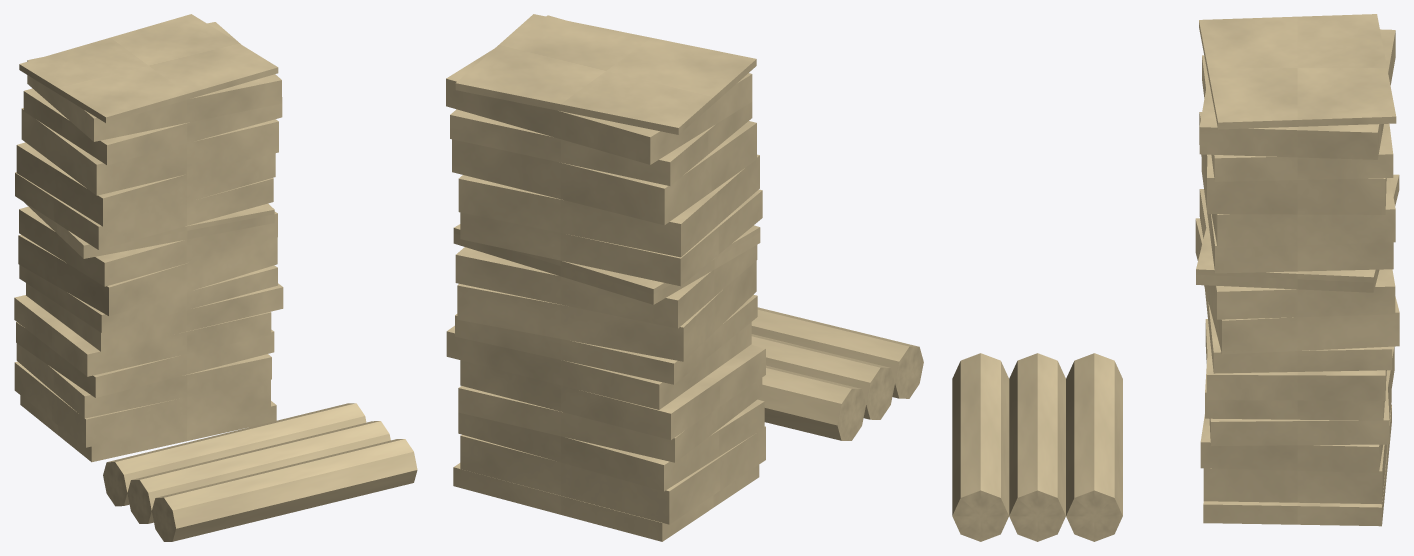
The model's file is Paper_Stack_2.gltf.
The picture shows the model from 3 angles, left to right: view 1: azimuth 30°, elevation 25°; view 2: azimuth 150°, elevation 25°; view 3: azimuth 270°, elevation 25°; orthographic projection. The views are drawn at different scales.
Parts seen in each view (by area): view 1: Paper_Stack_2; view 2: Paper_Stack_2; view 3: Paper_Stack_2.
Part boxes in pixels (box(x1,y1,x2,y2)): Paper_Stack_2: box(14, 14, 417, 541); Paper_Stack_2: box(446, 14, 923, 541); Paper_Stack_2: box(952, 14, 1399, 541).
Bounding box in the file's own units: 0.4 × 0.55 × 0.5507.
Materials: 1 (1 with a texture image).
